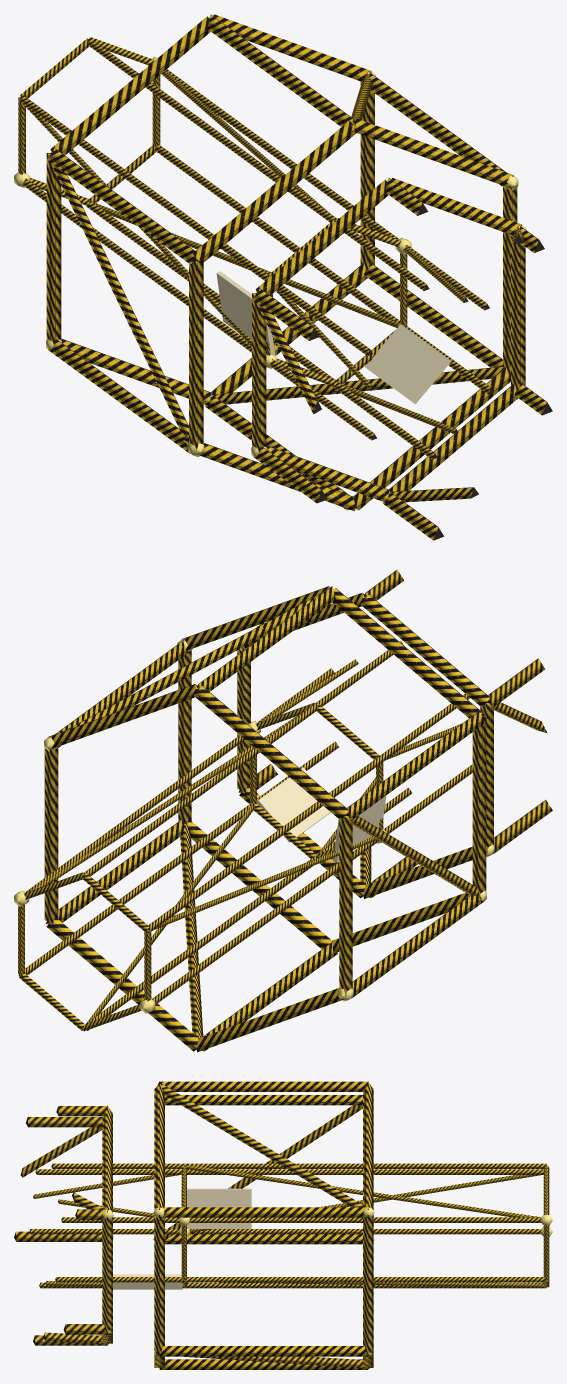
File: manufacturing_center_build1_debris1.obj
3 renders of one model, top to bottom at view 1: azimuth 30°, elevation 25°; view 2: azimuth 150°, elevation 25°; view 3: azimuth 270°, elevation 25°, orthographic. The views are drawn at different scales.
Parts seen in each view (by area): view 1: girder, post, brace, plate, work_light; view 2: girder, post, brace, plate, work_light; view 3: post, brace, girder, plate, work_light.
Boxes of the visible parts, x1,y1,x2,y2 form: girder: (18,14,525,511); post: (19,14,552,540); brace: (23,70,524,502); plate: (216,271,451,404); work_light: (14,56,526,457); girder: (18,586,493,1052); post: (18,570,552,1051); brace: (27,591,547,1038); plate: (256,767,386,862); work_light: (14,640,494,1013); post: (14,1081,546,1369); brace: (20,1083,546,1368); girder: (102,1081,549,1367); plate: (113,1188,251,1289); work_light: (103,1207,552,1240).
Size of the model in its own units: 63.72 by 72.66 by 124.
4 materials, 1 textured.
